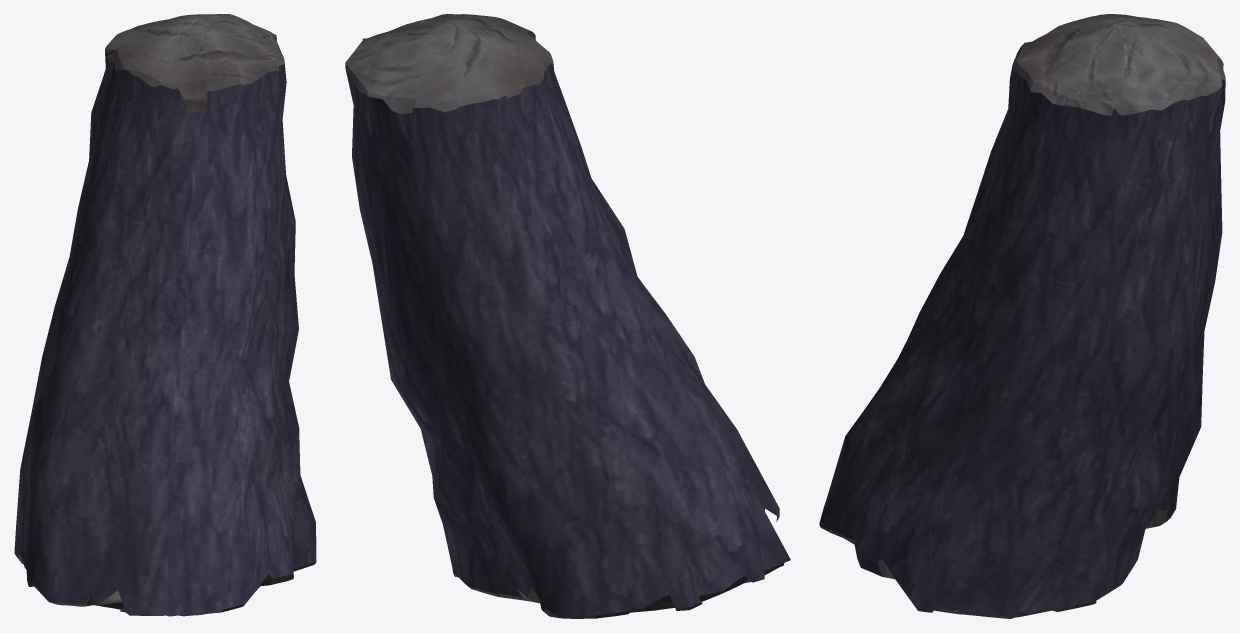
The picture shows the model from 3 angles, left to right: view 1: azimuth 30°, elevation 25°; view 2: azimuth 150°, elevation 25°; view 3: azimuth 270°, elevation 25°; orthographic projection. The views are drawn at different scales.
Parts seen in each view (by area): view 1: SM_Willow_02_quarter_01_LOD0; view 2: SM_Willow_02_quarter_01_LOD0; view 3: SM_Willow_02_quarter_01_LOD0.
Boxes of the visible parts, left/top/right/bottom form: SM_Willow_02_quarter_01_LOD0: left=14, top=14, right=316, bottom=616; SM_Willow_02_quarter_01_LOD0: left=345, top=14, right=790, bottom=618; SM_Willow_02_quarter_01_LOD0: left=819, top=14, right=1225, bottom=618.
Size of the model in its own units: 1.81 by 2.94 by 1.82.
1 material, 1 textured.
